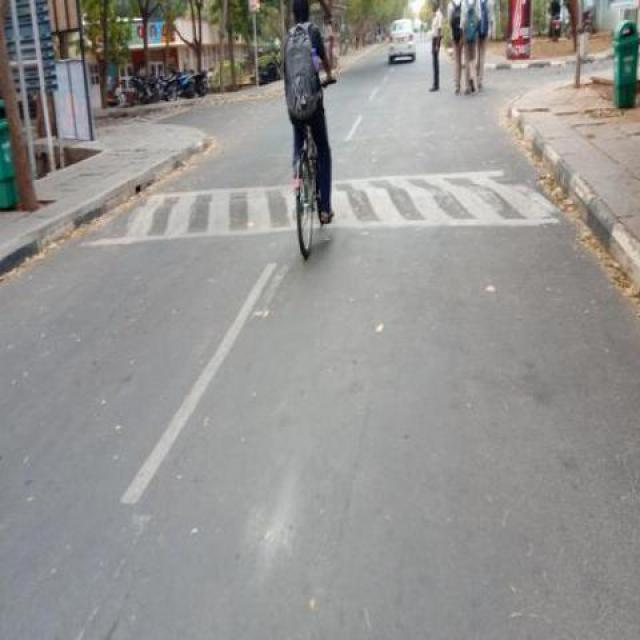Speed Bump: (96, 167, 538, 245)
